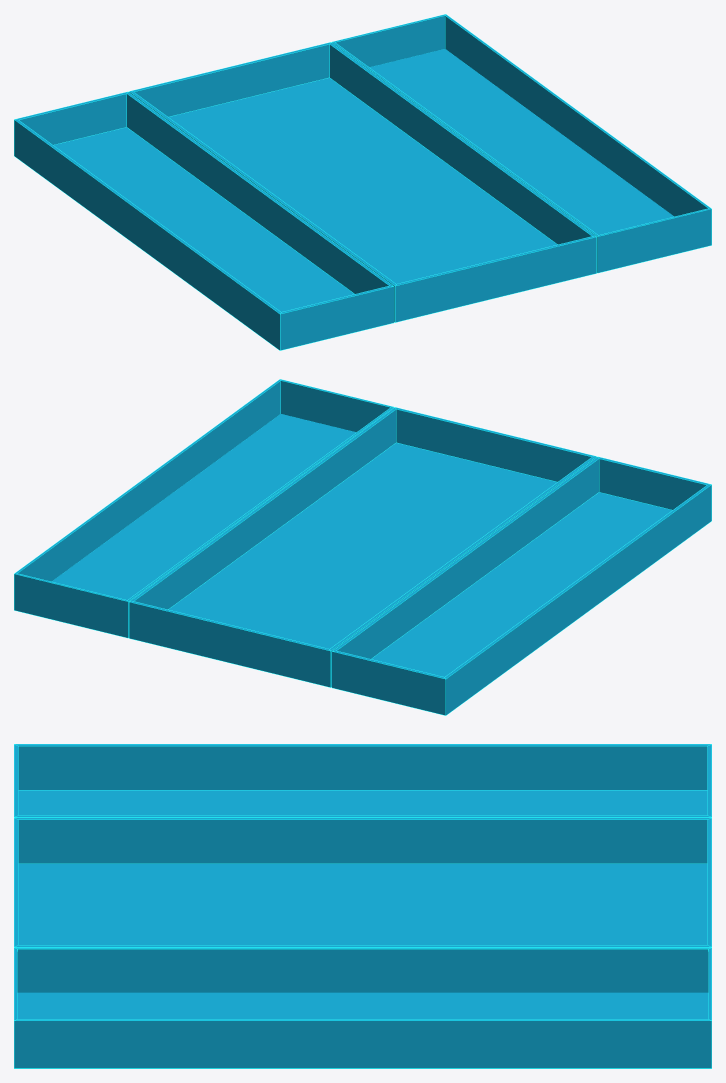
The picture shows the model from 3 angles, top to bottom: view 1: azimuth 30°, elevation 25°; view 2: azimuth 150°, elevation 25°; view 3: azimuth 270°, elevation 25°; orthographic projection. The views are drawn at different scales.
Visible parts, largest first — view 1: 高亮外框03, 高亮线框03; view 2: 高亮外框03, 高亮线框03; view 3: 高亮外框03, 高亮线框03.
Boxes of the visible parts, x1=… form: 高亮外框03: x1=14, y1=14, x2=711, y2=350; 高亮线框03: x1=14, y1=14, x2=711, y2=350; 高亮外框03: x1=14, y1=379, x2=711, y2=715; 高亮线框03: x1=14, y1=379, x2=711, y2=715; 高亮外框03: x1=14, y1=744, x2=711, y2=1068; 高亮线框03: x1=14, y1=744, x2=711, y2=1068.
Size of the model in its own units: 59.68 by 4.86 by 63.66.
